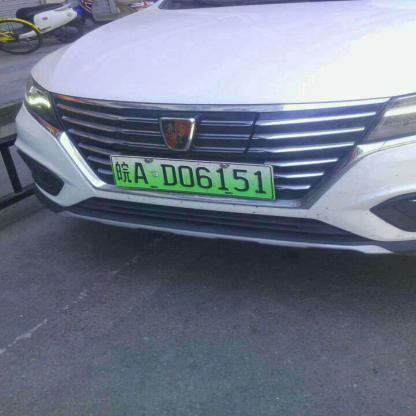lp: (109, 156, 273, 198)
